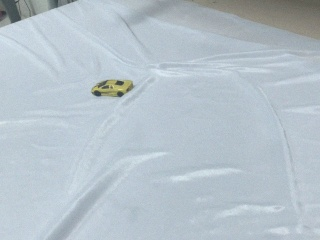toy_car: (91, 79, 133, 97)
